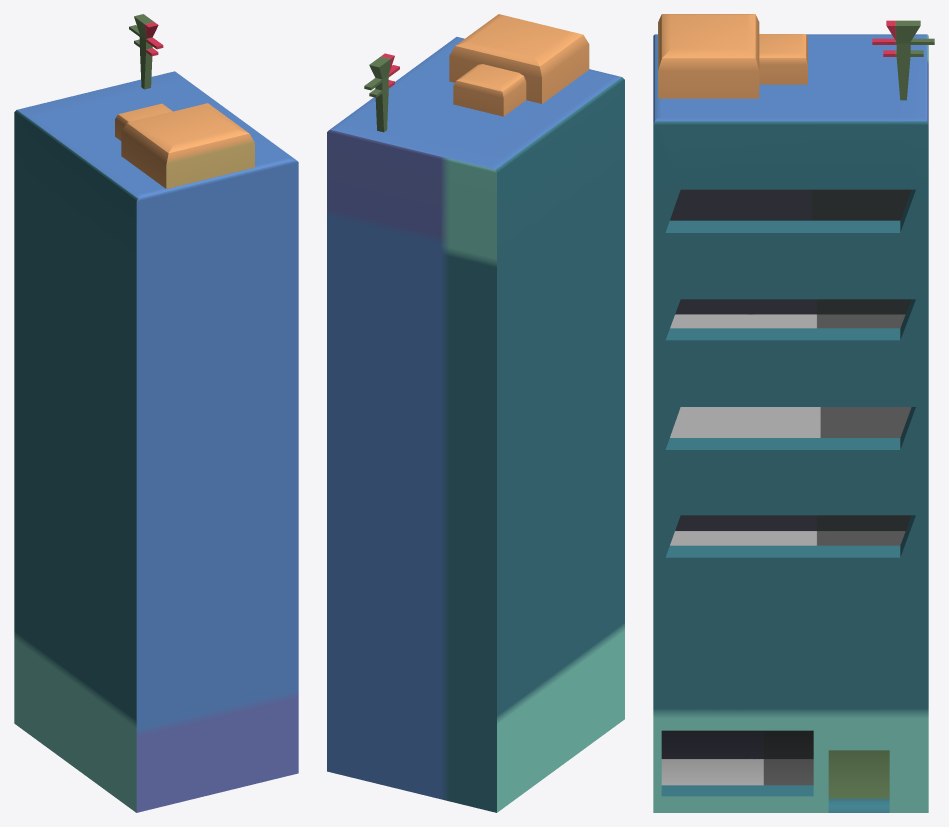
Rendered from BuildingTall_04B.fbx.
3 renders of one model, left to right at view 1: azimuth 30°, elevation 25°; view 2: azimuth 150°, elevation 25°; view 3: azimuth 270°, elevation 25°, orthographic. The views are drawn at different scales.
Visible parts, largest first — view 1: polySurface1081; view 2: polySurface1081; view 3: polySurface1081.
Boxes of the visible parts, <box> form: polySurface1081: <box>14,14,298,812</box>; polySurface1081: <box>327,14,624,812</box>; polySurface1081: <box>653,14,934,812</box>.
Size of the model in its own units: 3.97 by 15.91 by 5.29.
